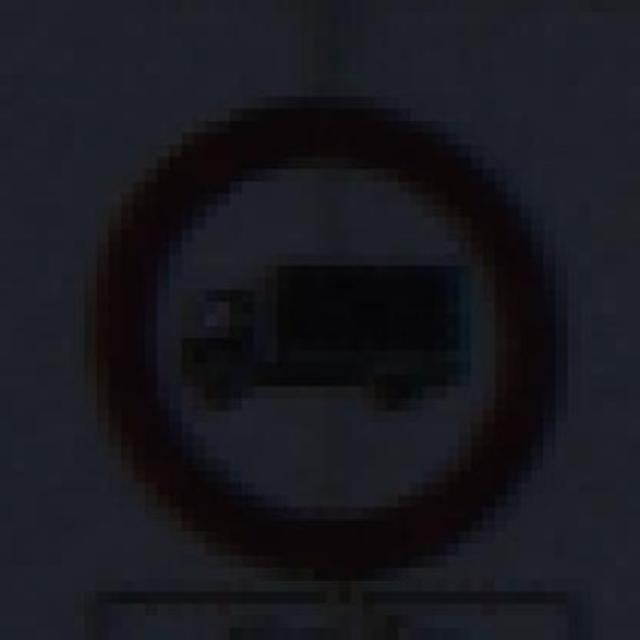Truck traffic is prohibited: (72, 72, 568, 568)
